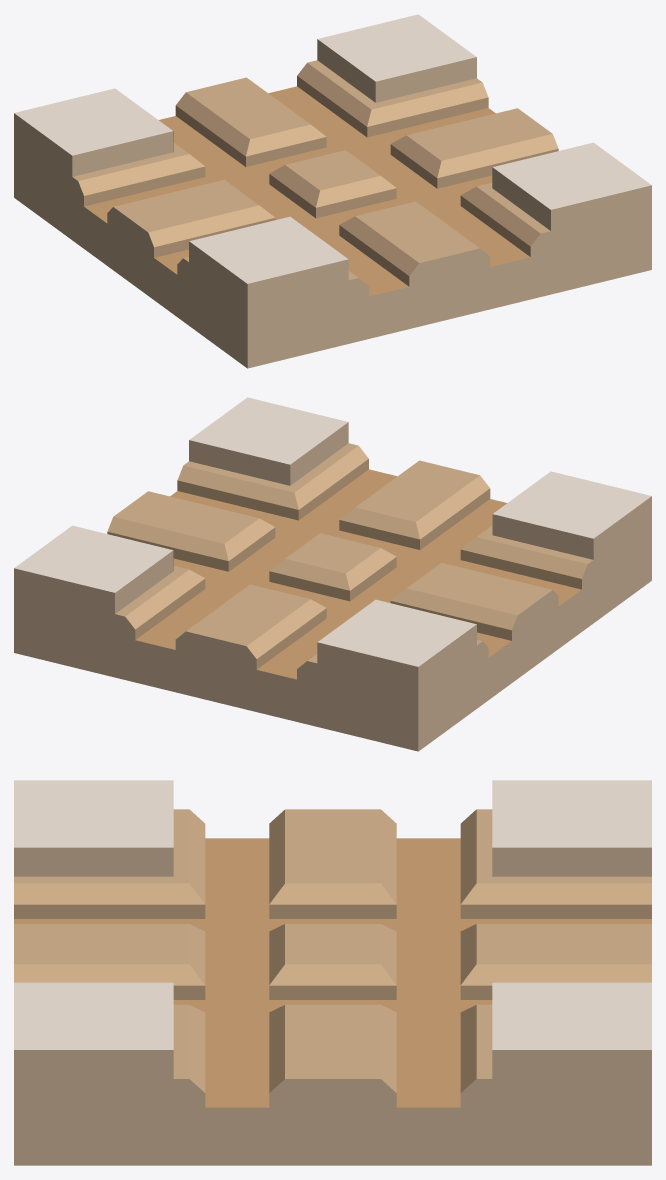
File: Puzzle_Track_Standard_Cross.fbx
The picture shows the model from 3 angles, top to bottom: view 1: azimuth 30°, elevation 25°; view 2: azimuth 150°, elevation 25°; view 3: azimuth 270°, elevation 25°; orthographic projection. The views are drawn at different scales.
Visible parts, largest first — view 1: Sandstone_Trim.Sandstone_Trim.Sandstone_Trim.Sandstone_Trim., Sandstone_4.Sandstone_4.Sandstone_4.Sandstone_4.Sandstone_4., Sandstone_Floor.Sandstone_Floor.Sandstone_Floor.Sandstone_Fl, Sandstone_5; view 2: Sandstone_Trim.Sandstone_Trim.Sandstone_Trim.Sandstone_Trim., Sandstone_4.Sandstone_4.Sandstone_4.Sandstone_4.Sandstone_4., Sandstone_Floor.Sandstone_Floor.Sandstone_Floor.Sandstone_Fl, Sandstone_5; view 3: Sandstone_4.Sandstone_4.Sandstone_4.Sandstone_4.Sandstone_4., Sandstone_Trim.Sandstone_Trim.Sandstone_Trim.Sandstone_Trim., Sandstone_Floor.Sandstone_Floor.Sandstone_Floor.Sandstone_Fl, Sandstone_5.
Boxes of the visible parts, <box> form: Sandstone_Trim.Sandstone_Trim.Sandstone_Trim.Sandstone_Trim.: <box>14,39,651,368</box>; Sandstone_4.Sandstone_4.Sandstone_4.Sandstone_4.Sandstone_4.: <box>73,60,558,286</box>; Sandstone_Floor.Sandstone_Floor.Sandstone_Floor.Sandstone_Fl: <box>14,14,651,283</box>; Sandstone_5: <box>84,86,530,296</box>; Sandstone_Trim.Sandstone_Trim.Sandstone_Trim.Sandstone_Trim.: <box>14,422,651,751</box>; Sandstone_4.Sandstone_4.Sandstone_4.Sandstone_4.Sandstone_4.: <box>107,443,592,669</box>; Sandstone_Floor.Sandstone_Floor.Sandstone_Floor.Sandstone_Fl: <box>14,397,651,666</box>; Sandstone_5: <box>135,469,581,679</box>; Sandstone_4.Sandstone_4.Sandstone_4.Sandstone_4.Sandstone_4.: <box>14,809,651,1092</box>; Sandstone_Trim.Sandstone_Trim.Sandstone_Trim.Sandstone_Trim.: <box>14,847,651,1165</box>; Sandstone_Floor.Sandstone_Floor.Sandstone_Floor.Sandstone_Fl: <box>14,780,651,1049</box>; Sandstone_5: <box>14,838,651,1107</box>.
Bounding box in the file's own units: 1 × 0.2 × 1.
